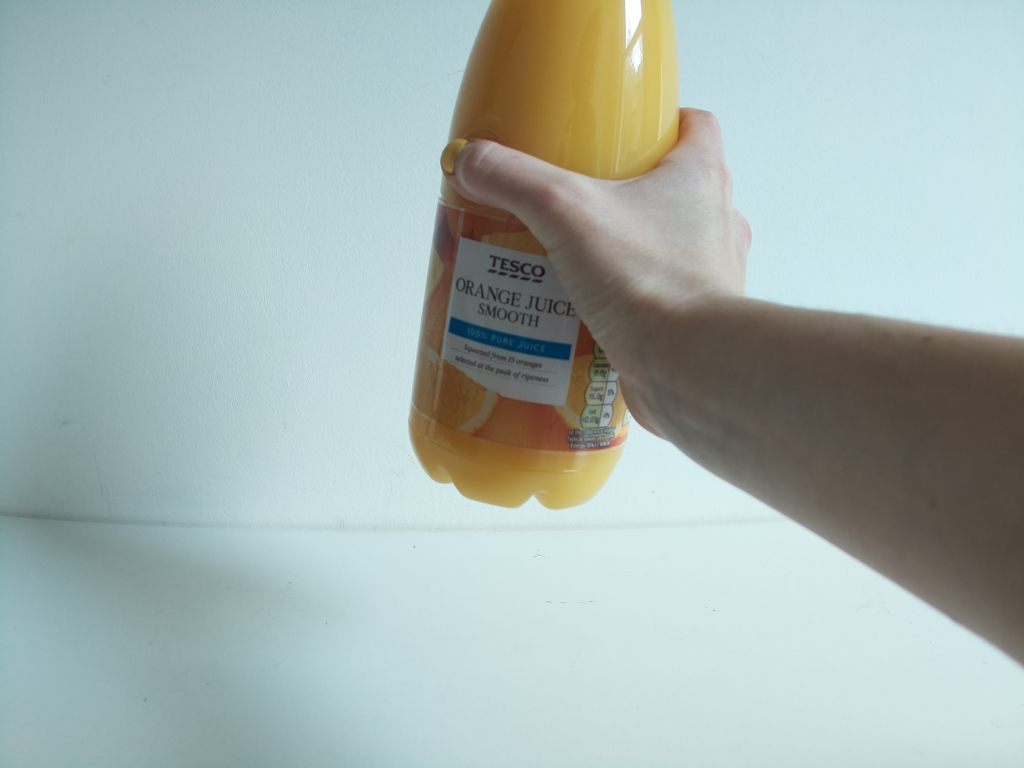juice: (401, 1, 684, 512)
